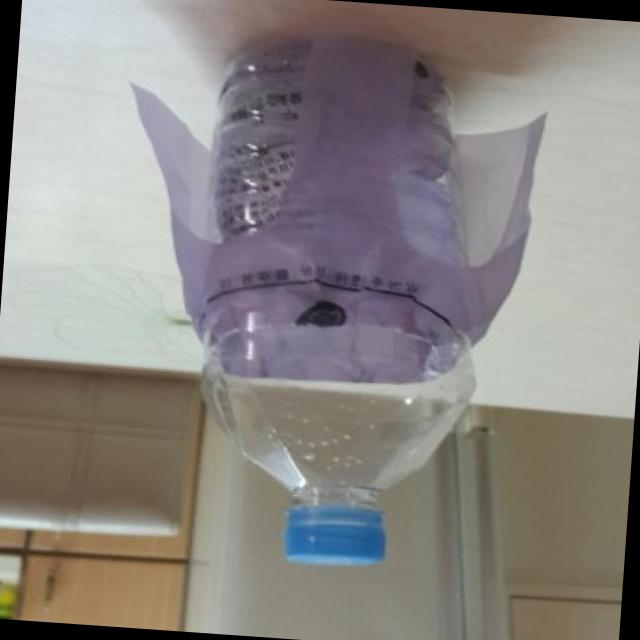plastic_bottle: (179, 32, 499, 576)
